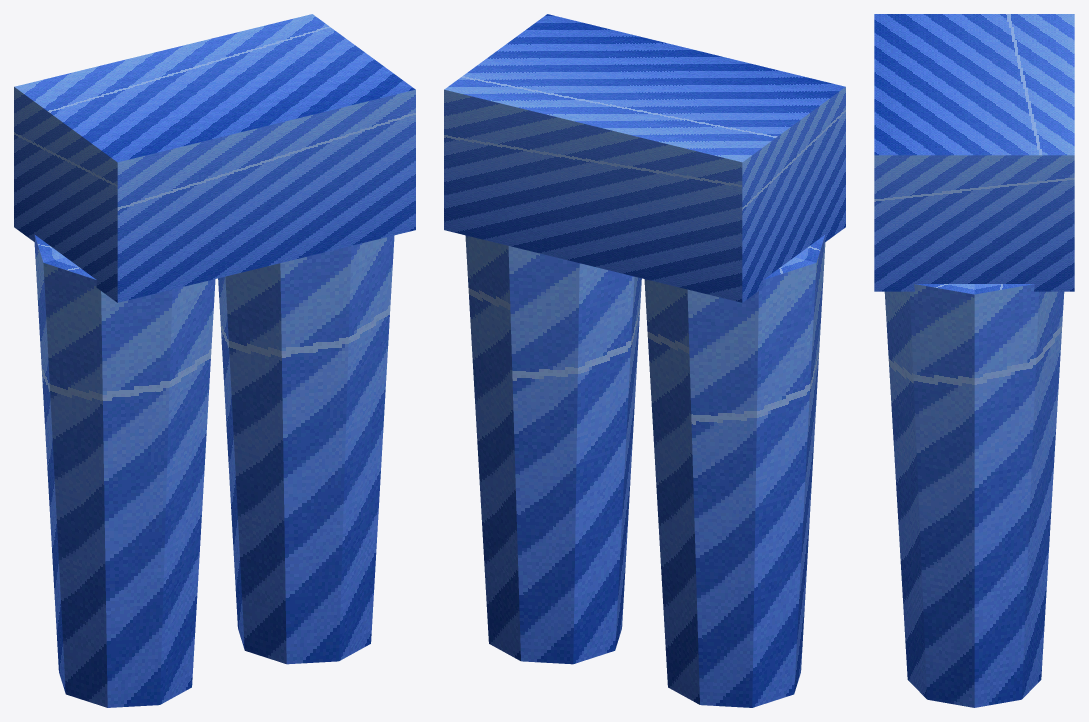
File: calcas_de_safira.glb
The picture shows the model from 3 angles, left to right: view 1: azimuth 30°, elevation 25°; view 2: azimuth 150°, elevation 25°; view 3: azimuth 270°, elevation 25°; orthographic projection. The views are drawn at different scales.
Visible parts, largest first — view 1: calcas_de_safira; view 2: calcas_de_safira; view 3: calcas_de_safira.
Part boxes in pixels (left/top/right/bottom): calcas_de_safira: left=14, top=14, right=415, bottom=707; calcas_de_safira: left=444, top=14, right=845, bottom=707; calcas_de_safira: left=874, top=14, right=1074, bottom=707.
Bounding box in the file's own units: 0.46 × 0.73 × 0.24.
1 material, 1 textured.
